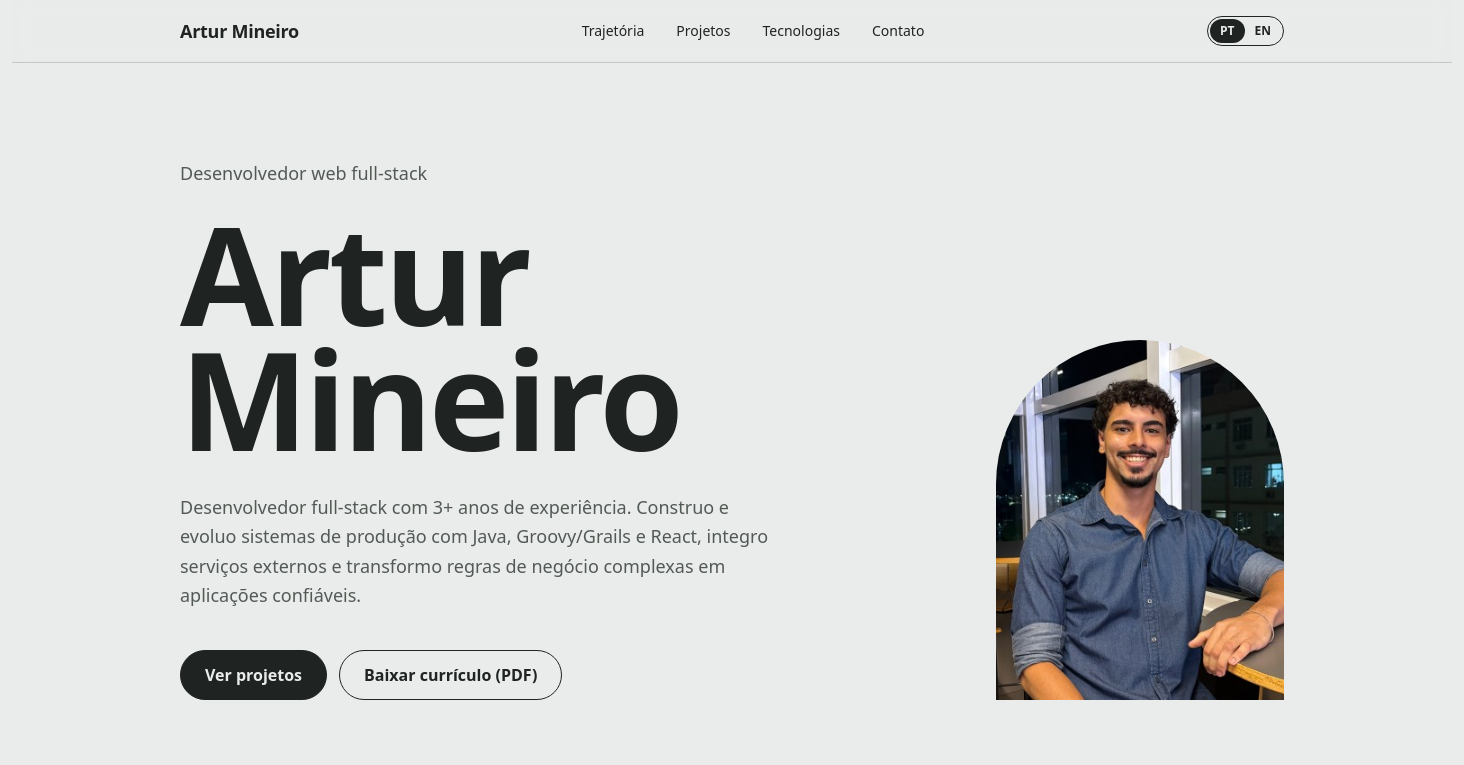
Portfólio › troca o idioma e atualiza lang, título e URL
Click the button with aria-label "English": {"x": 1263, "y": 31} [1244, 19, 1281, 43]
(page scrolled)
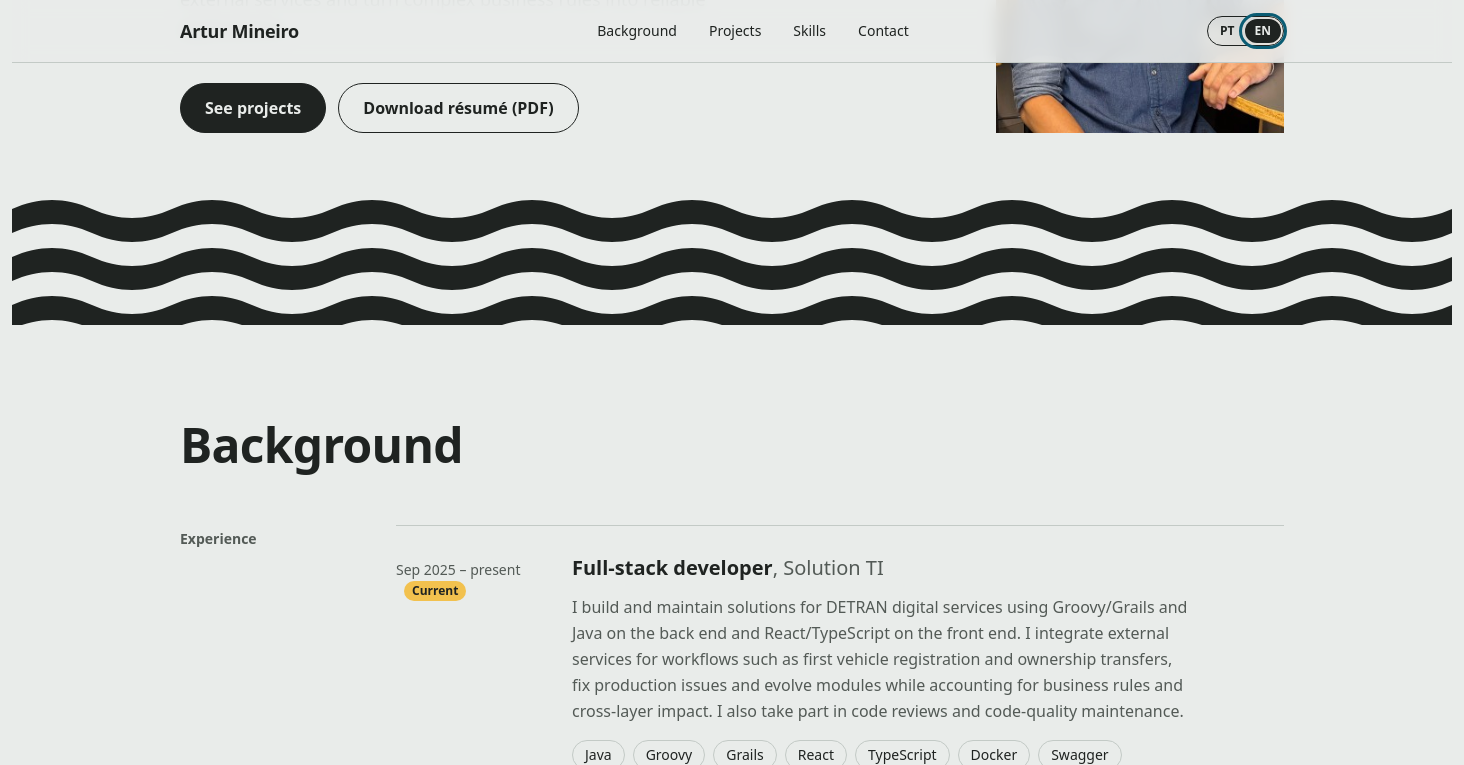
expect the heading "Background" is shown: met, box [180, 412, 463, 477]
